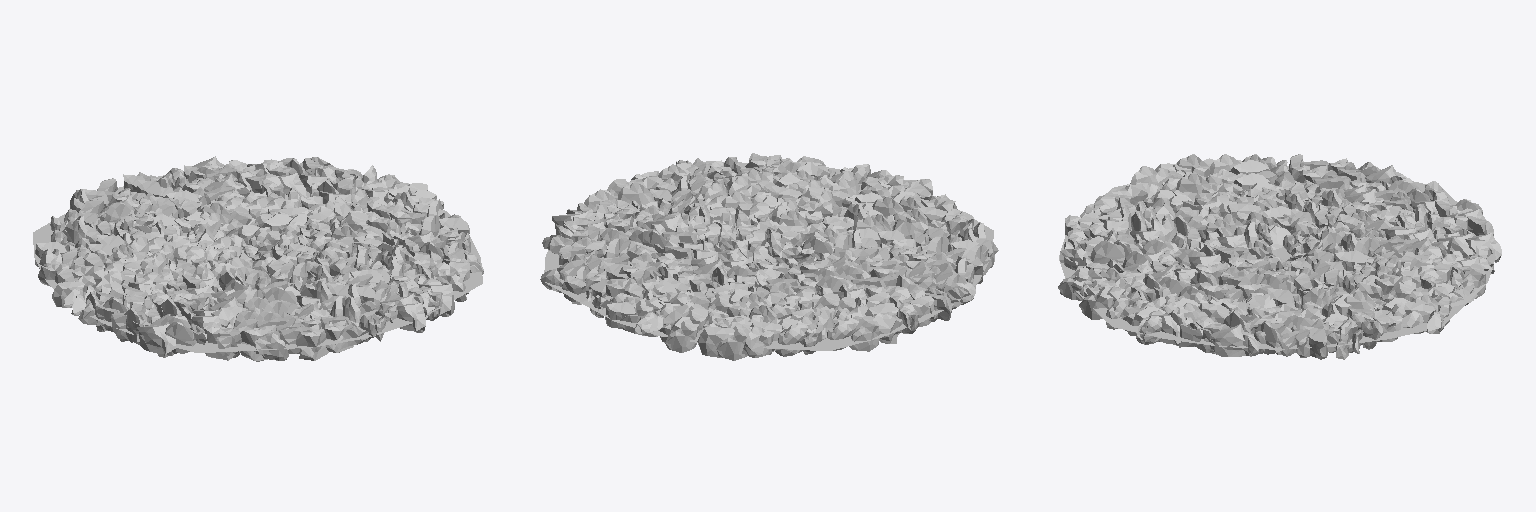
File: plant2.obj
The picture shows the model from 3 angles: view 1: azimuth 30°, elevation 25°; view 2: azimuth 150°, elevation 25°; view 3: azimuth 270°, elevation 25°; orthographic projection.
Parts seen in each view (by area): view 1: potted_plant_02_dirt; view 2: potted_plant_02_dirt; view 3: potted_plant_02_dirt.
Part boxes in pixels (left/top/right/bottom): potted_plant_02_dirt: left=33, top=156, right=483, bottom=361; potted_plant_02_dirt: left=540, top=153, right=998, bottom=360; potted_plant_02_dirt: left=1058, top=154, right=1501, bottom=359.
Size of the model in its own units: 0.4142 by 0.0439 by 0.4109.